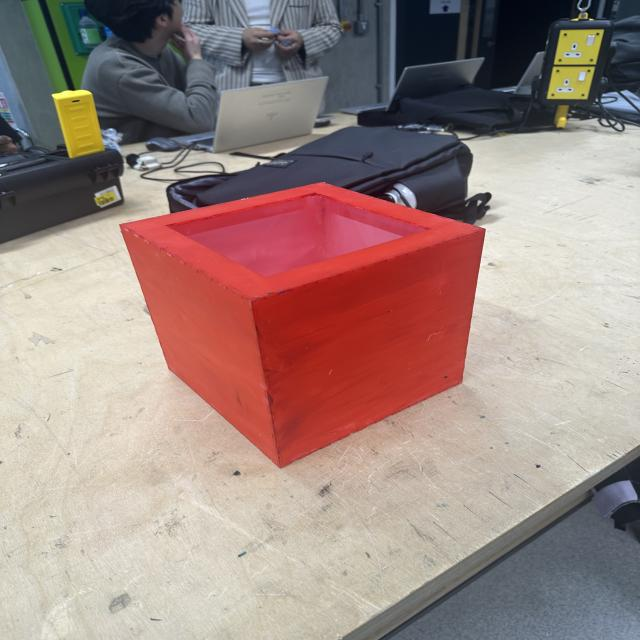red_bin: (117, 181, 487, 468)
